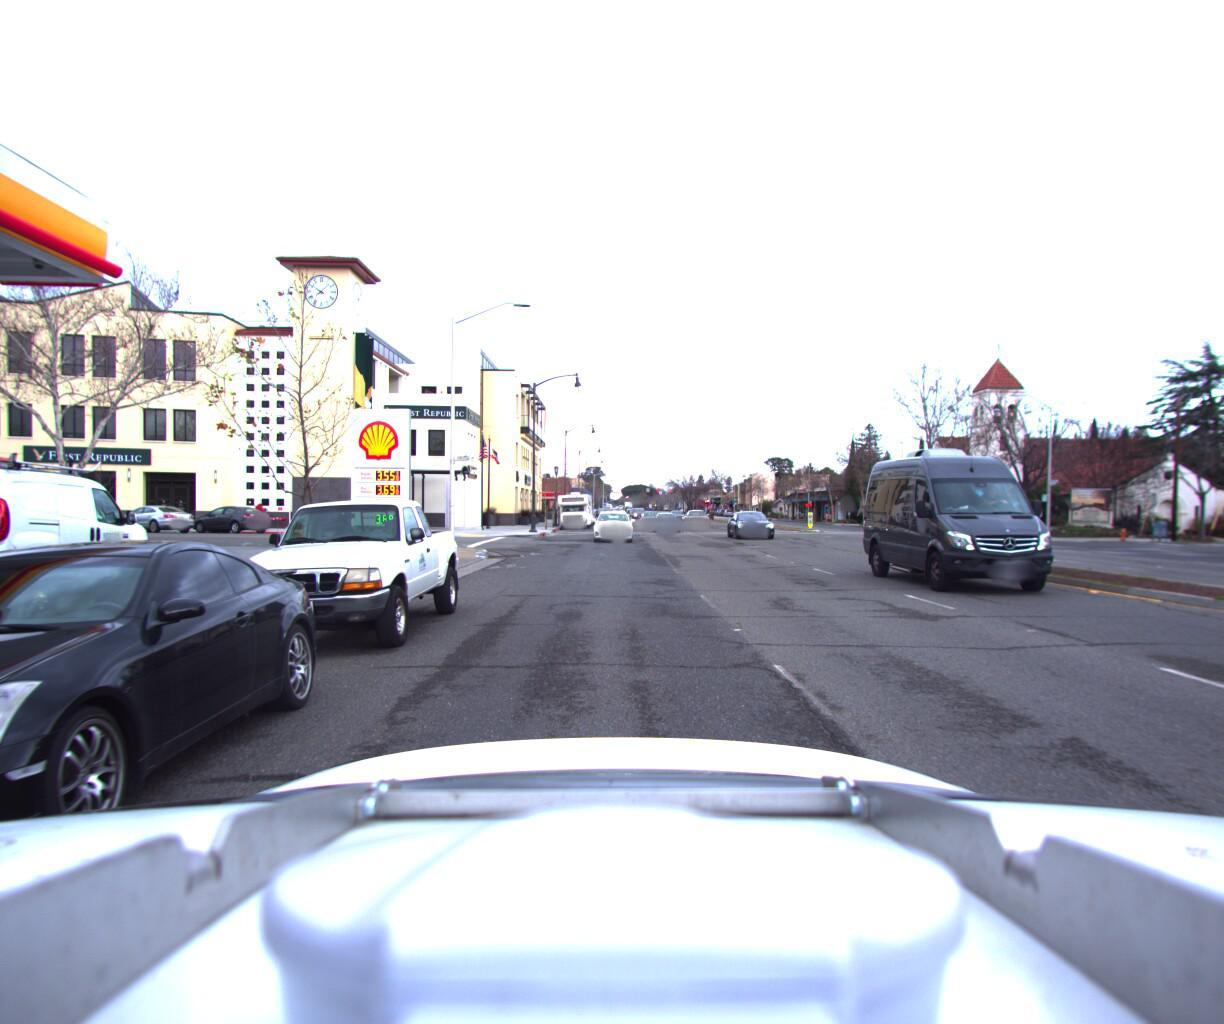car: (0, 524, 336, 972), (219, 486, 472, 666), (868, 421, 1103, 600), (0, 441, 166, 610), (109, 500, 200, 530), (189, 501, 277, 531), (588, 503, 639, 542), (727, 506, 785, 537), (654, 508, 685, 531), (683, 505, 711, 523), (641, 506, 664, 523)
other_vehicle: (553, 487, 593, 526)
